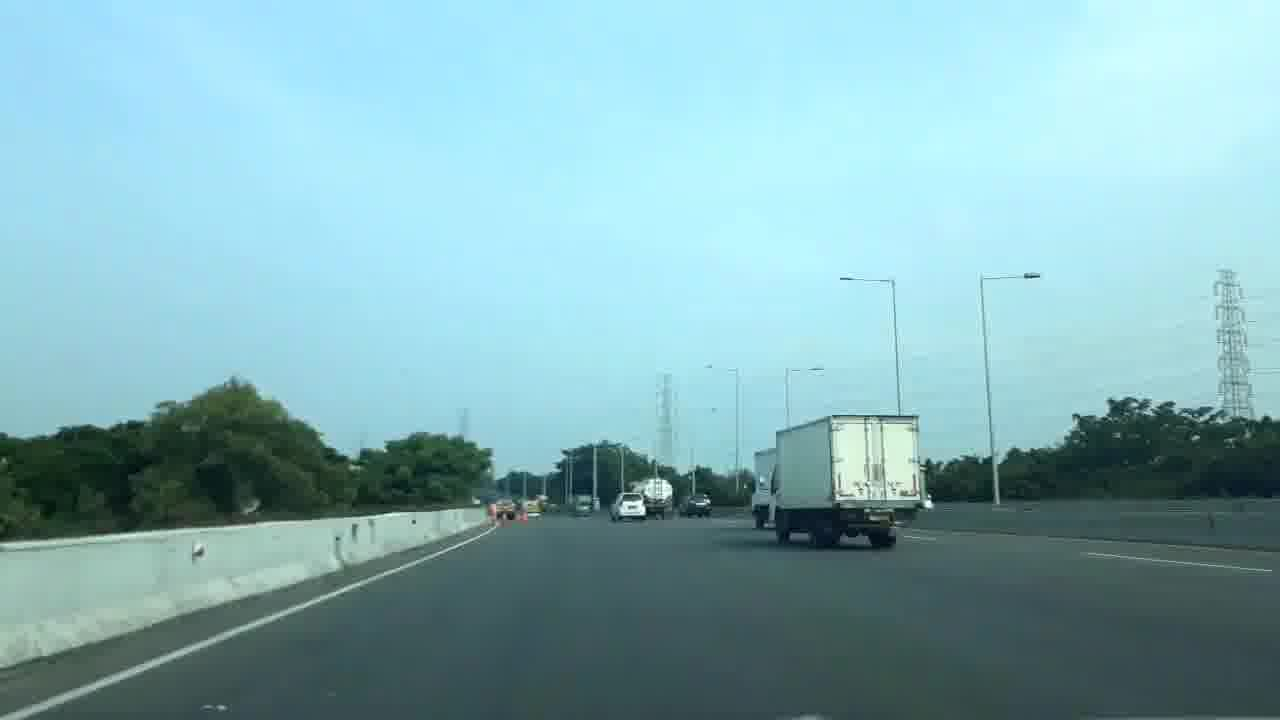plate_positive: (869, 513, 890, 521)
